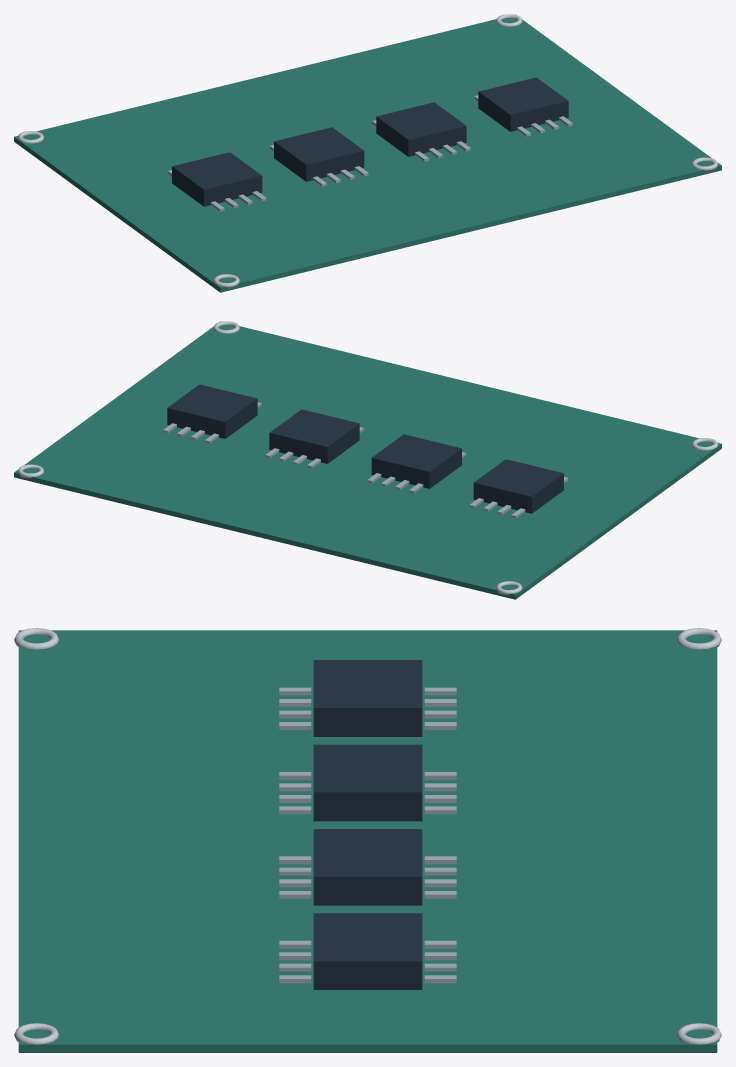
Rendered from pcb.glb.
The picture shows the model from 3 angles, top to bottom: view 1: azimuth 30°, elevation 25°; view 2: azimuth 150°, elevation 25°; view 3: azimuth 270°, elevation 25°; orthographic projection. The views are drawn at different scales.
Parts seen in each view (by area): view 1: CircuitBoard, IntegratedCircuit0, IntegratedCircuit1, IntegratedCircuit2, IntegratedCircuit3; view 2: CircuitBoard, IntegratedCircuit0, IntegratedCircuit1, IntegratedCircuit2, IntegratedCircuit3; view 3: CircuitBoard, IntegratedCircuit1, IntegratedCircuit0, IntegratedCircuit2, IntegratedCircuit3.
Part boxes in pixels (x1,y1,x2,y2): CircuitBoard: [14, 14, 721, 292]; IntegratedCircuit0: [172, 152, 262, 206]; IntegratedCircuit1: [274, 127, 364, 181]; IntegratedCircuit2: [376, 102, 466, 156]; IntegratedCircuit3: [478, 77, 568, 131]; CircuitBoard: [14, 321, 721, 599]; IntegratedCircuit0: [473, 459, 563, 513]; IntegratedCircuit1: [371, 434, 461, 488]; IntegratedCircuit2: [269, 409, 359, 463]; IntegratedCircuit3: [167, 384, 257, 438]; CircuitBoard: [18, 630, 717, 1052]; IntegratedCircuit1: [313, 744, 422, 821]; IntegratedCircuit0: [313, 660, 422, 736]; IntegratedCircuit2: [313, 829, 422, 905]; IntegratedCircuit3: [313, 913, 422, 989].
Bounding box in the file's own units: 0.216 × 0.009 × 0.156.
